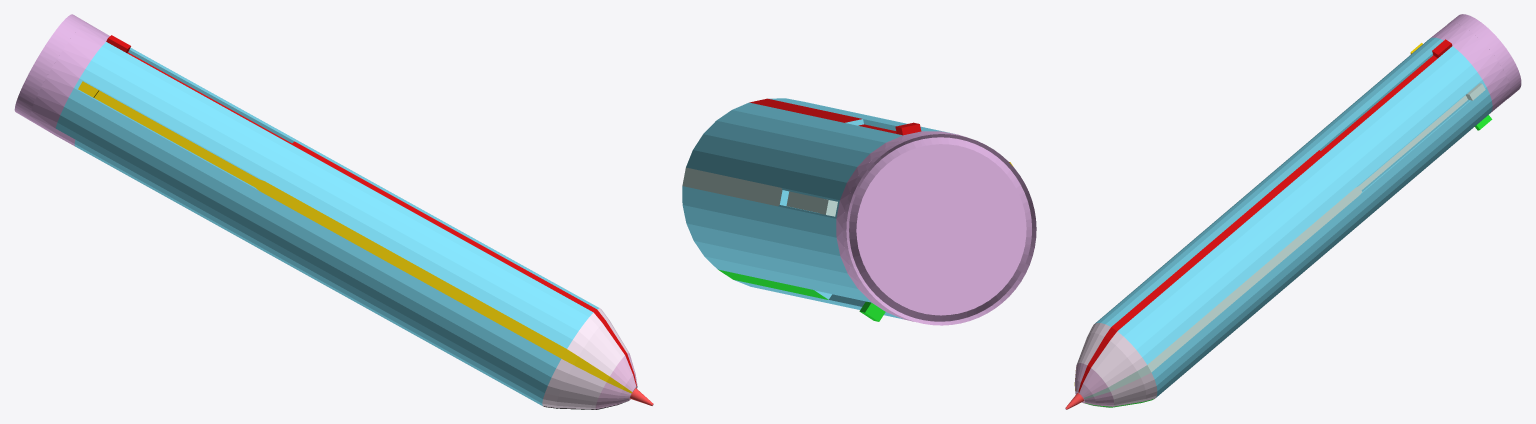
File: 5_color_pin.glb
The picture shows the model from 3 angles, left to right: view 1: azimuth 30°, elevation 25°; view 2: azimuth 150°, elevation 25°; view 3: azimuth 270°, elevation 25°; orthographic projection. The views are drawn at different scales.
Parts seen in each view (by area): view 1: Cylinder.005; view 2: Cylinder.005; view 3: Cylinder.005.
Part boxes in pixels (x1,y1,x2,y2): Cylinder.005: (14,14,653,409); Cylinder.005: (682,98,1036,325); Cylinder.005: (1065,14,1521,409).
Size of the model in its own units: 1.56 by 1.15 by 1.82.
